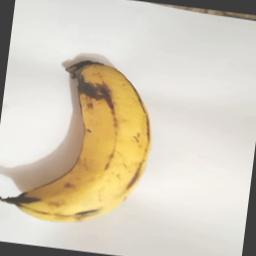Banana Unripe: (0, 50, 163, 233)
